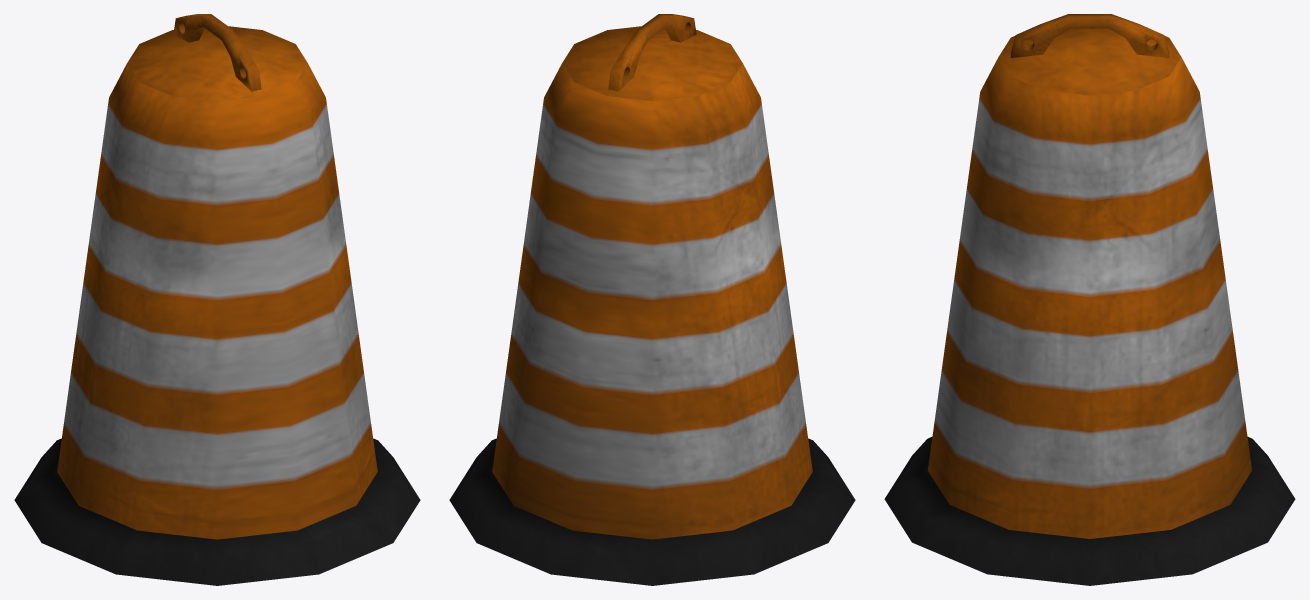
File: Traffic_Cone_Big_A.fbx
The picture shows the model from 3 angles, left to right: view 1: azimuth 30°, elevation 25°; view 2: azimuth 150°, elevation 25°; view 3: azimuth 270°, elevation 25°; orthographic projection.
Parts seen in each view (by area): view 1: Cone_Big_A; view 2: Cone_Big_A; view 3: Cone_Big_A.
Boxes of the visible parts, box(x1,y1,x2,y2) form: Cone_Big_A: box(14, 14, 420, 585); Cone_Big_A: box(449, 14, 855, 585); Cone_Big_A: box(884, 14, 1295, 585).
Size of the model in its own units: 78.72 by 102 by 78.72.
